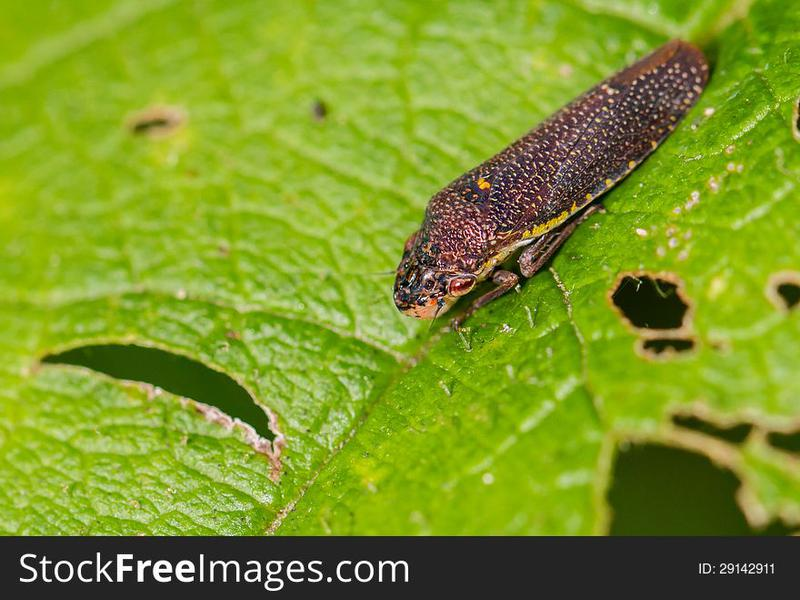Brown_plant_leafhopper: (379, 35, 724, 347)
